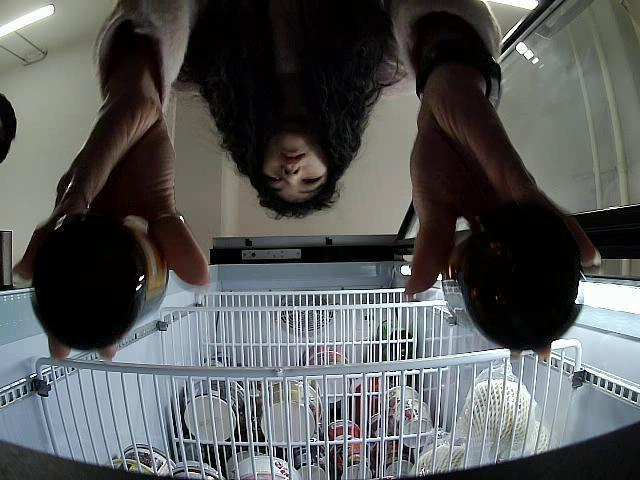17_vita500: (439, 216, 582, 351), (30, 212, 168, 346)
